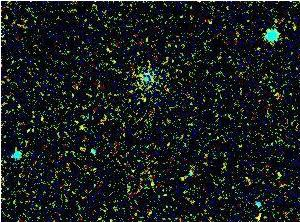star: (240, 200, 270, 222)
